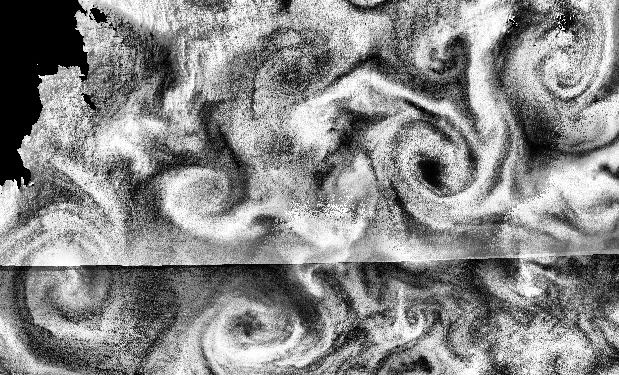AE: (13, 224, 127, 340), (387, 113, 483, 218), (523, 28, 602, 106), (209, 301, 283, 360)
